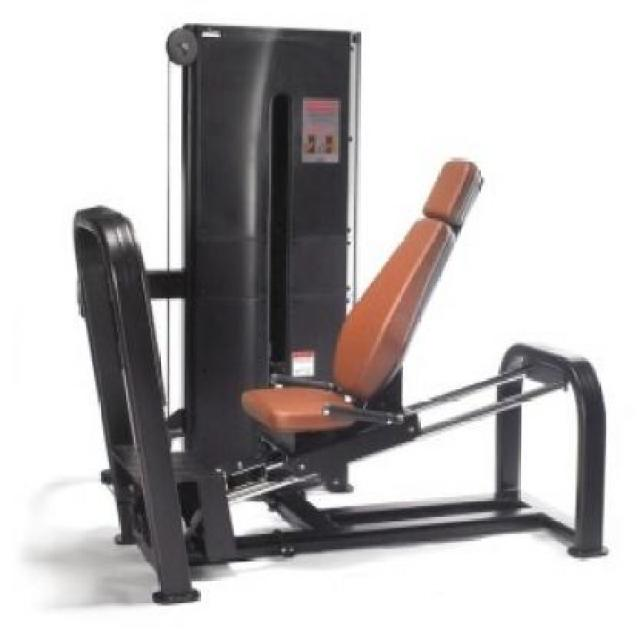leg press: (48, 18, 637, 604)
